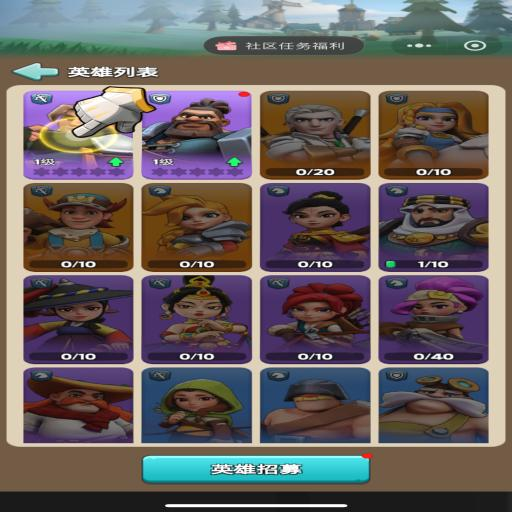newcomer_hand: (69, 86, 155, 138)
